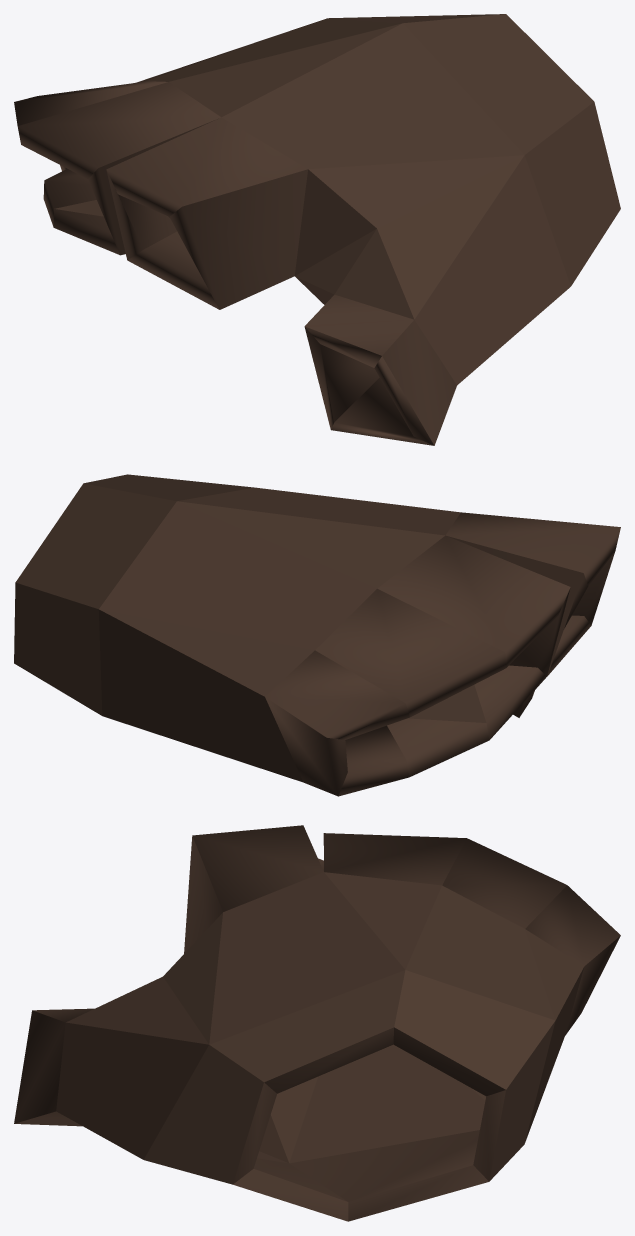
The model's file is Chr_HandRight_Female_17_Drop.fbx.
3 renders of one model, top to bottom at view 1: azimuth 30°, elevation 25°; view 2: azimuth 150°, elevation 25°; view 3: azimuth 270°, elevation 25°, orthographic. The views are drawn at different scales.
Parts seen in each view (by area): view 1: Chr_HandRight_Female_17_Static; view 2: Chr_HandRight_Female_17_Static; view 3: Chr_HandRight_Female_17_Static.
Part boxes in pixels (x1,y1,x2,y2): Chr_HandRight_Female_17_Static: [14, 14, 620, 445]; Chr_HandRight_Female_17_Static: [14, 474, 620, 796]; Chr_HandRight_Female_17_Static: [14, 825, 620, 1221].
Bounding box in the file's own units: 15.96 × 8.19 × 17.52.
